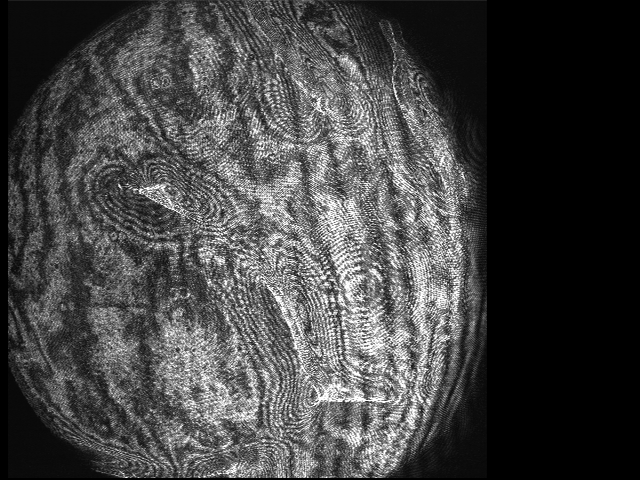plume: (84, 154, 239, 243)
